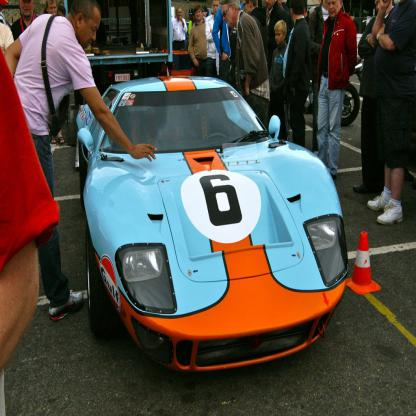Car: (76, 61, 346, 376)
